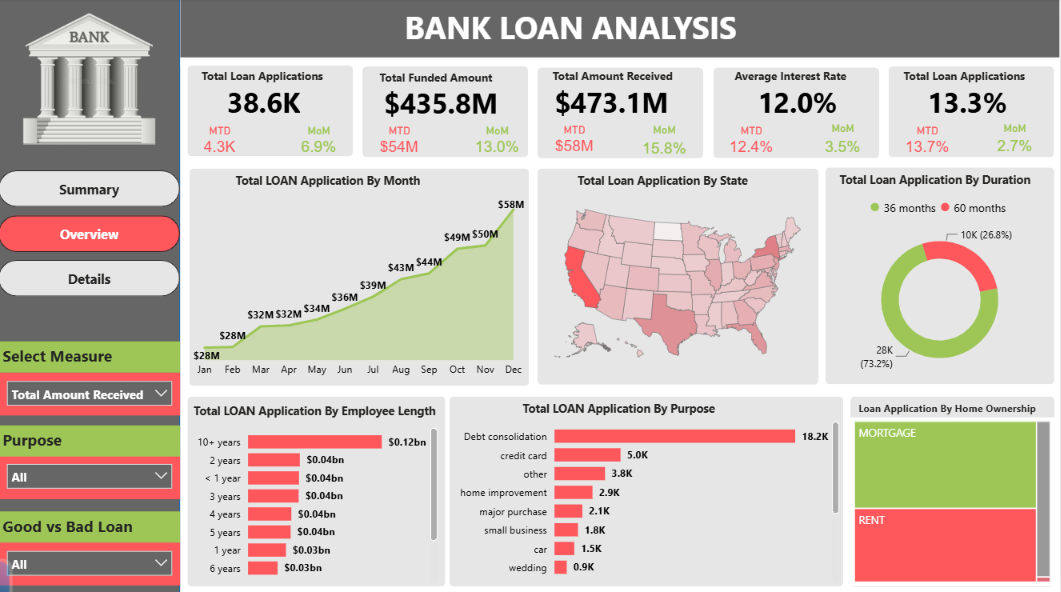

Layout of this report page (visuals, bound fields, positions):
{"tool":"powerbi","page":{"name":"Overview","canvas":[1280,720],"ordinal":1},"visuals":[{"type":"shape","box":[0,0,219.3,719.9],"z":0},{"type":"shape","box":[219.6,0,1060.5,71.2],"z":1000},{"type":"textbox","box":[485,4.8,439.1,60.3],"z":2000},{"type":"shape","box":[228,80.8,200,109.8],"z":3000},{"type":"cardVisual","fields":{"Data":["bank_project financial_loan.Total Loan Application"]},"box":[230.2,96.8,179.8,53.1],"z":4000},{"type":"textbox","box":[239.8,79.9,161.7,32.6],"z":5000},{"type":"cardVisual","title":"MTD","fields":{"Data":["bank_project financial_loan.MTD Loan Application"]},"box":[230.4,152,73.6,38.6],"z":6000},{"type":"shape","box":[439.4,82,200,109.8],"z":7000},{"type":"shape","box":[650.9,83.2,200,109.8],"z":8000},{"type":"shape","box":[1073.7,82,200,109.8],"z":9000},{"type":"shape","box":[862.3,83.7,200,109.6],"z":10000},{"type":"cardVisual","title":"MoM","fields":{"Data":["bank_project financial_loan.MoM Loan Application"]},"box":[345,152,83.2,38.6],"z":11000},{"type":"cardVisual","fields":{"Data":["bank_project financial_loan.Total Funded Amount"]},"box":[439.1,97.7,189.4,53.1],"z":12000},{"type":"textbox","box":[455.4,81.2,161.7,32.6],"z":13000},{"type":"cardVisual","title":"MTD","fields":{"Data":["bank_project financial_loan.MTD Funded Amount"]},"box":[441.6,152,84.5,38.6],"z":14000},{"type":"cardVisual","title":"MoM","fields":{"Data":["bank_project financial_loan.MoM Total Funded Ratio"]},"box":[553.8,152,96.5,38.6],"z":15000},{"type":"cardVisual","fields":{"Data":["bank_project financial_loan.Total Payment Received"]},"box":[653.9,96.5,171.3,53.1],"z":16000},{"type":"textbox","box":[663.9,80.2,161.7,32.6],"z":17000},{"type":"cardVisual","title":"MTD","fields":{"Data":["bank_project financial_loan.MTD Total Amount Received"]},"box":[650.3,150.8,89.3,38.6],"z":18000},{"type":"cardVisual","title":"MoM","fields":{"Data":["bank_project financial_loan.MoM Payment Received Ratio"]},"box":[756.4,150.8,94.1,43.4],"z":19000},{"type":"cardVisual","fields":{"Data":["bank_project financial_loan.Average Amount Ratio"]},"box":[863.8,96.5,200.3,53.1],"z":20000},{"type":"textbox","box":[883.1,79.6,161.7,32.6],"z":21000},{"type":"cardVisual","title":"MTD","fields":{"Data":["bank_project financial_loan.MTD Avg Interest Rate"]},"box":[863.8,152,89.3,38.6],"z":22000},{"type":"cardVisual","title":"MoM","fields":{"Data":["bank_project financial_loan.MoM Avg Interest"]},"box":[973.6,149.6,90.5,43.4],"z":23000},{"type":"cardVisual","fields":{"Data":["bank_project financial_loan.Avg DTI"]},"box":[1073.7,96.5,190.6,53.1],"z":24000},{"type":"textbox","box":[1086.6,79.2,161.7,32.6],"z":25000},{"type":"cardVisual","title":"MTD","fields":{"Data":["bank_project financial_loan.MTD Avg DTI"]},"box":[1073.7,152,94.1,39.8],"z":26000},{"type":"cardVisual","title":"MoM","fields":{"Data":["bank_project financial_loan.MoM Avg DTI"]},"box":[1178.7,149.6,95.3,42.2],"z":27000},{"type":"shape","box":[230.8,204.9,409.7,262.6],"z":28000},{"type":"shape","box":[650.7,204.9,339,261.1],"z":29000},{"type":"textbox","box":[281.1,205.1,272.7,32.6],"z":30000},{"type":"areaChart","fields":{"Y":["bank_project financial_loan.Total Loan Application"],"Category":["Table Colender.Months"]},"box":[230.8,230.8,409.7,235.2],"z":31000},{"type":"textbox","box":[693.7,205.1,252.1,32.6],"z":32000},{"type":"shape","box":[228,480.2,311.3,229.2],"z":33000},{"type":"slicer","fields":{"Values":["bank_project financial_loan.purpose"]},"box":[0,551.3,219.6,53.1],"z":34000},{"type":"slicer","fields":{"Values":["bank_project financial_loan.Good vs Bad Loan"]},"box":[0,656.3,219.6,51.9],"z":35000},{"type":"textbox","box":[0,515.2,219.6,37.4],"z":36000},{"type":"textbox","box":[0,618.9,219.6,37.4],"z":37000},{"type":"slicer","fields":{"Values":["Select Measure.Select Measure"]},"box":[0,451.2,219.6,51.9],"z":38000},{"type":"image","box":[7.2,13.3,205.1,167.7],"z":39000},{"type":"textbox","box":[0,413.8,219.6,37.4],"z":40000},{"type":"shapeMap","fields":{"Value":["bank_project financial_loan.Total Loan Application"],"Category":["bank_project financial_loan.address_state"]},"box":[650.3,222,339,243.7],"z":41000},{"type":"shape","box":[997.7,203.9,276.3,261.8],"z":42000},{"type":"donutChart","fields":{"Category":["bank_project financial_loan.term"],"Y":["bank_project financial_loan.Total Loan Application"]},"box":[997.7,231.6,276.3,234],"z":43000},{"type":"textbox","box":[1009.8,203.9,252.1,32.6],"z":44000},{"type":"shape","box":[544.1,480.2,475.3,229.2],"z":45000},{"type":"shape","box":[1027.9,480.2,246.1,230.4],"z":46000},{"type":"barChart","fields":{"Y":["bank_project financial_loan.Total Funded Amount"],"Category":["bank_project financial_loan.emp_length"]},"box":[230.4,505.5,304,205.1],"z":47000},{"type":"textbox","box":[230.4,482.6,308.8,32.6],"z":48000},{"type":"barChart","fields":{"Y":["bank_project financial_loan.Total Loan Application"],"Category":["bank_project financial_loan.purpose"]},"box":[544.1,498.3,475.3,212.3],"z":49000},{"type":"treemap","fields":{"Values":["bank_project financial_loan.Total Loan Application"],"Group":["bank_project financial_loan.home_ownership"]},"box":[1027.9,505.5,246.1,203.9],"z":50000},{"type":"textbox","box":[1032.7,480.2,236.5,31.4],"z":51000},{"type":"textbox","box":[627.3,480.2,308.8,32.6],"z":52000},{"type":"pageNavigator","box":[0,207.5,219.6,152],"z":53000}]}

Visuals, with their boxes in screenshot pixels (x1, y1, x2, y2), scaled from the page's 1280x720 canvas onto the 1061x592 screenshot:
shape: [0,0,182,591]
shape: [182,0,1060,59]
textbox: [402,4,766,54]
shape: [189,66,355,157]
cardVisual - bank_project financial_loan.Total Loan Application: [191,80,340,123]
textbox: [199,66,333,92]
"MTD" cardVisual: [191,125,252,157]
shape: [364,67,530,158]
shape: [540,68,705,159]
shape: [890,67,1056,158]
shape: [715,69,881,159]
"MoM" cardVisual: [286,125,355,157]
cardVisual - bank_project financial_loan.Total Funded Amount: [364,80,521,124]
textbox: [377,67,512,94]
"MTD" cardVisual: [366,125,436,157]
"MoM" cardVisual: [459,125,539,157]
cardVisual - bank_project financial_loan.Total Payment Received: [542,79,684,123]
textbox: [550,66,684,93]
"MTD" cardVisual: [539,124,613,156]
"MoM" cardVisual: [627,124,705,160]
cardVisual - bank_project financial_loan.Average Amount Ratio: [716,79,882,123]
textbox: [732,65,866,92]
"MTD" cardVisual: [716,125,790,157]
"MoM" cardVisual: [807,123,882,159]
cardVisual - bank_project financial_loan.Avg DTI: [890,79,1048,123]
textbox: [901,65,1035,92]
"MTD" cardVisual: [890,125,968,158]
"MoM" cardVisual: [977,123,1056,158]
shape: [191,168,531,384]
shape: [539,168,820,383]
textbox: [233,169,459,195]
areaChart - bank_project financial_loan.Total Loan Application x Table Colender.Months: [191,190,531,383]
textbox: [575,169,784,195]
shape: [189,395,447,583]
slicer - bank_project financial_loan.purpose: [0,453,182,497]
slicer - bank_project financial_loan.Good vs Bad Loan: [0,540,182,582]
textbox: [0,424,182,454]
textbox: [0,509,182,540]
slicer - Select Measure.Select Measure: [0,371,182,414]
image: [6,11,176,149]
textbox: [0,340,182,371]
shapeMap - bank_project financial_loan.Total Loan Application x bank_project financial_loan.address_state: [539,183,820,383]
shape: [827,168,1056,383]
donutChart - bank_project financial_loan.term x bank_project financial_loan.Total Loan Application: [827,190,1056,383]
textbox: [837,168,1046,194]
shape: [451,395,845,583]
shape: [852,395,1056,584]
barChart - bank_project financial_loan.Total Funded Amount x bank_project financial_loan.emp_length: [191,416,443,584]
textbox: [191,397,447,424]
barChart - bank_project financial_loan.Total Loan Application x bank_project financial_loan.purpose: [451,410,845,584]
treemap - bank_project financial_loan.Total Loan Application x bank_project financial_loan.home_ownership: [852,416,1056,583]
textbox: [856,395,1052,421]
textbox: [520,395,776,422]
pageNavigator: [0,171,182,296]
